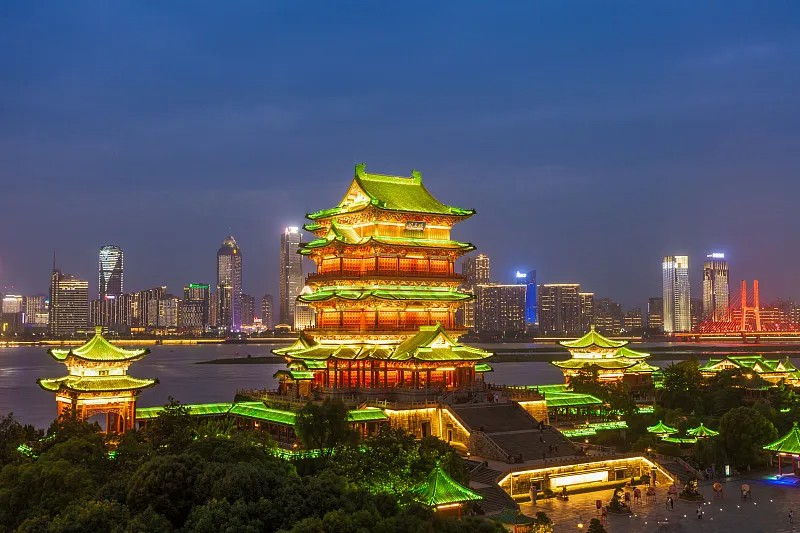Teng: (271, 161, 496, 397)
